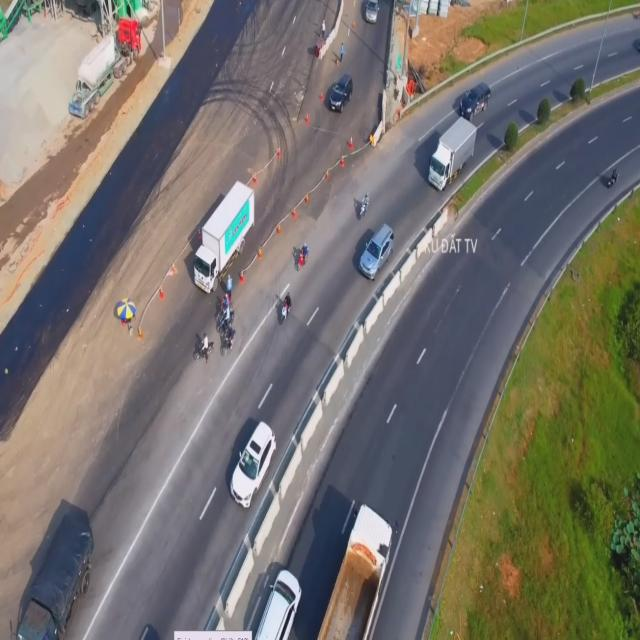car: (230, 421, 276, 509), (254, 568, 300, 640), (359, 224, 394, 281), (458, 82, 489, 120), (328, 70, 352, 113), (364, 1, 380, 27)
motorbike: (194, 335, 214, 360), (219, 326, 236, 353), (296, 240, 310, 268), (280, 294, 292, 325), (358, 190, 369, 220), (605, 166, 620, 188)
truck: (12, 508, 93, 640), (317, 500, 393, 640), (193, 178, 256, 290), (426, 120, 476, 188)
